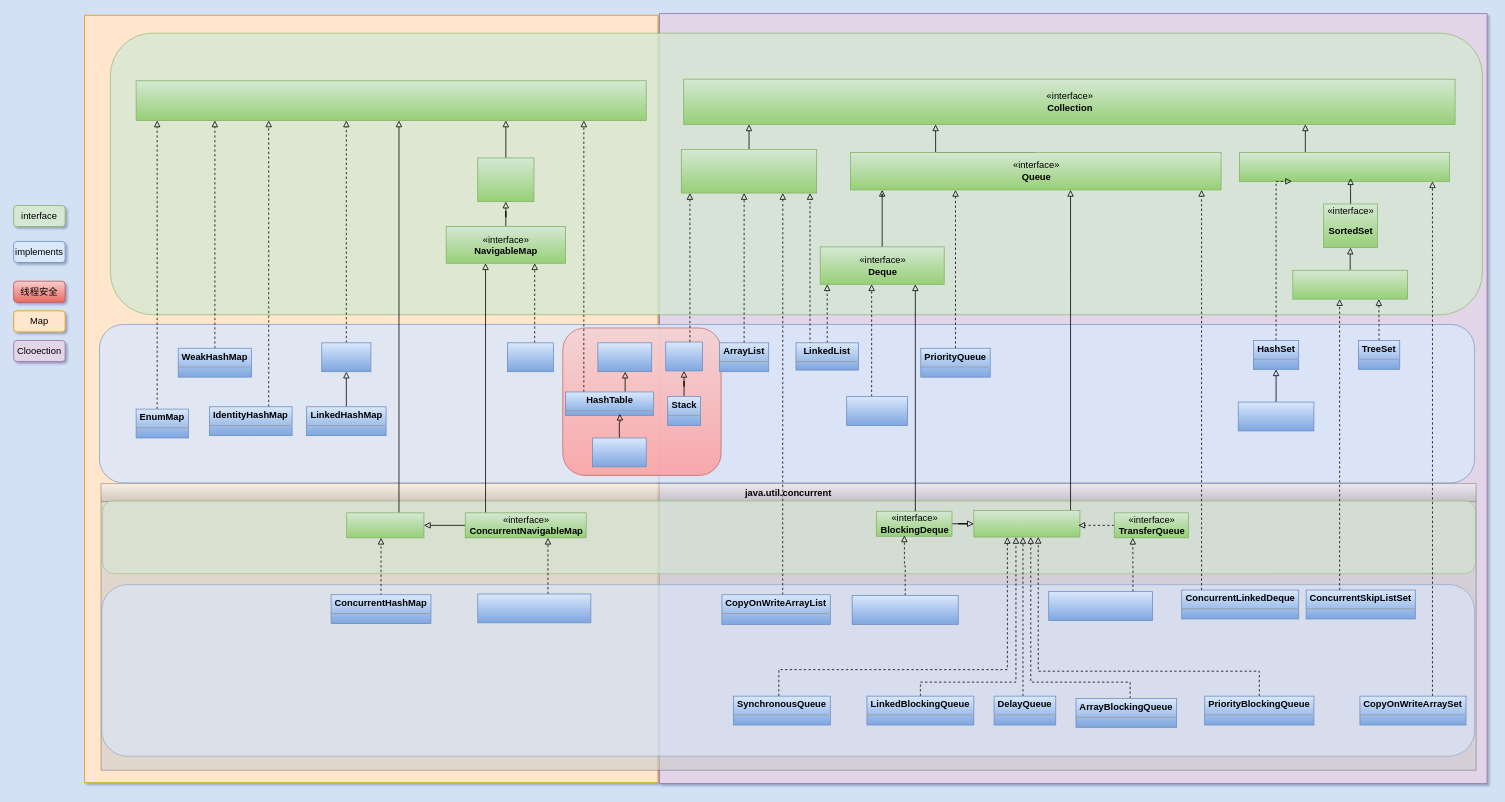
The diagram is 1505 pixels wide and 802 high, and some of its shapes have lost their labels. Each missing label, with the centre of its shape:
ArrayDeque: pixel 877 410
ConcurrentSkipListMap: pixel 534 608
Dictionary: pixel 624 357
HashMap: pixel 346 357
LinkedBlockingDeque: pixel 904 609
LinkedHashSet: pixel 1275 416
LinkedTransferQueue: pixel 1100 605
Properties: pixel 619 452
TreeMap: pixel 530 357
Vector: pixel 683 356
«interface» BlockingQueue: pixel 1026 523
«interface» ConcurrentMap: pixel 385 525
«interface» List: pixel 749 171
«interface» Map: pixel 390 100
«interface» NavigableSet: pixel 1350 284
«interface» Set: pixel 1344 166
«interface» SortedMap: pixel 505 179
